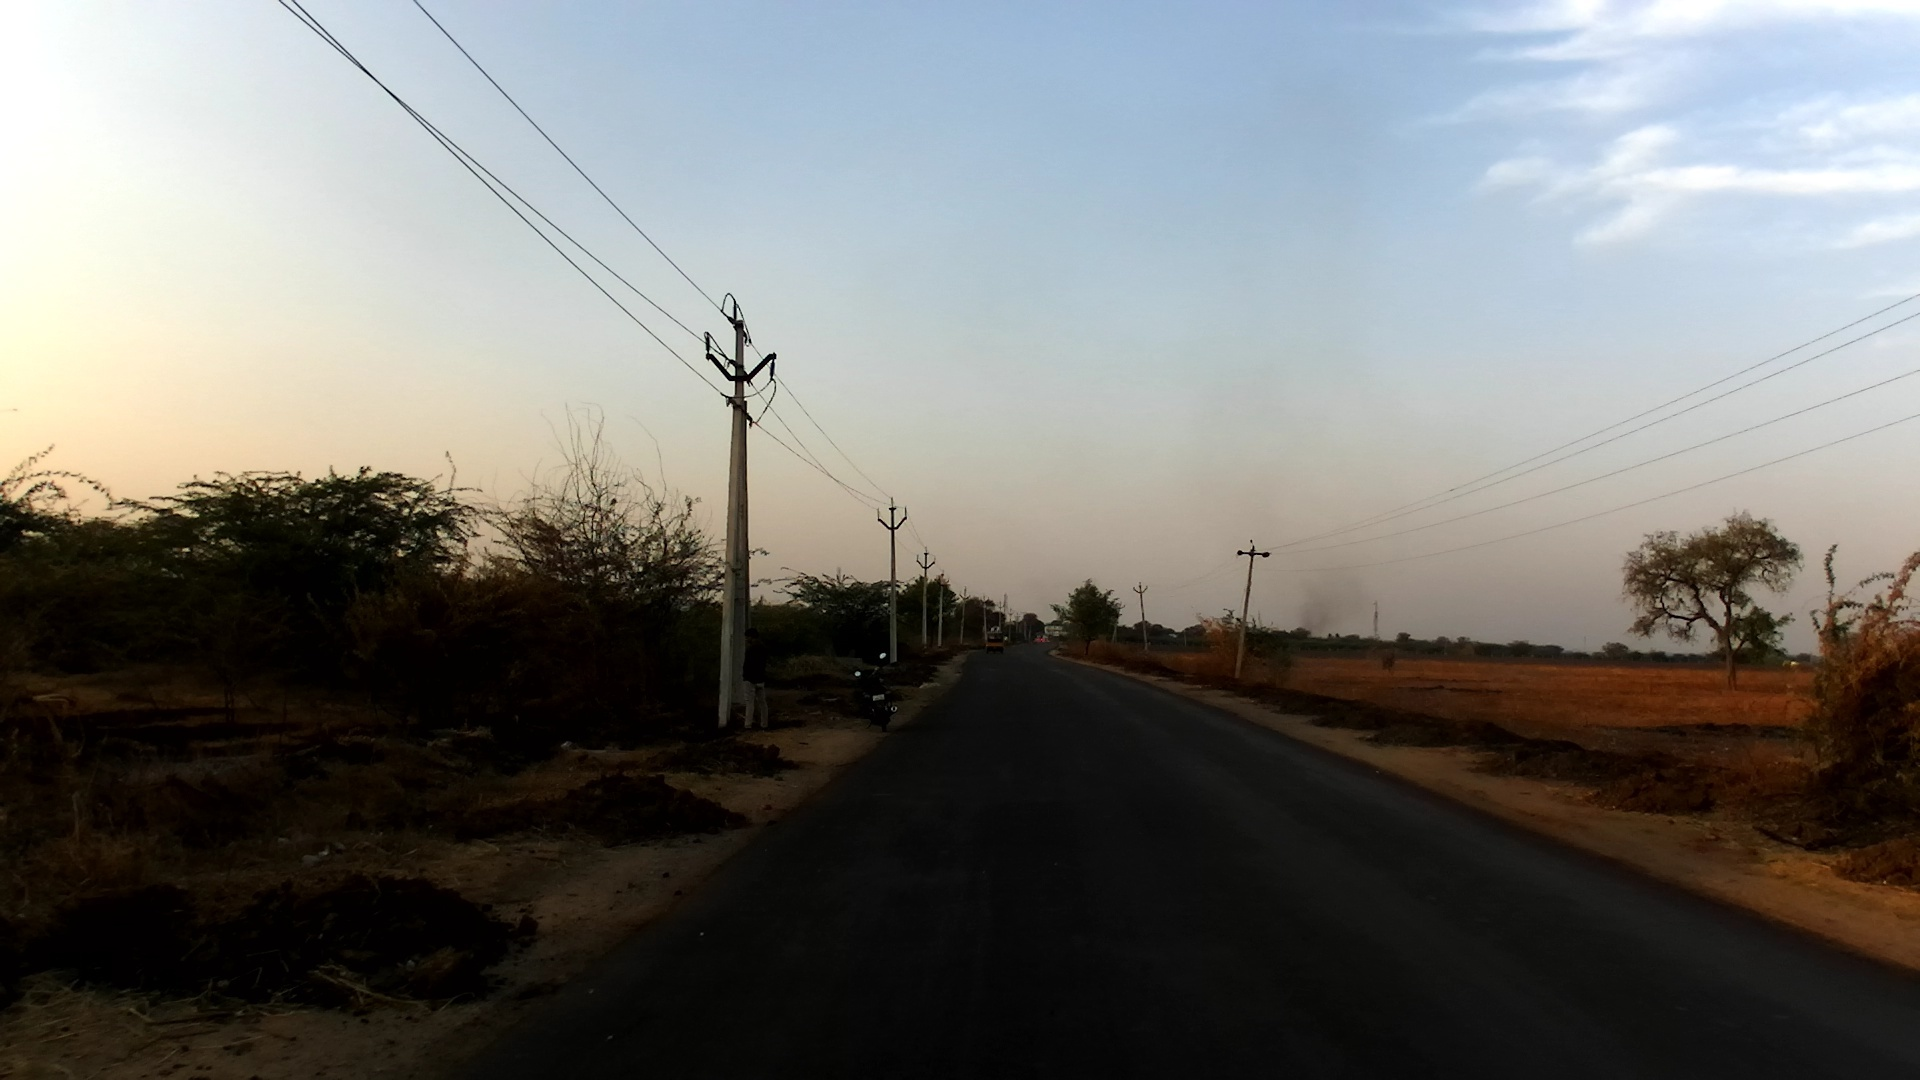car: (982, 626, 1008, 653)
motorcycle: (850, 647, 897, 736)
person: (736, 625, 771, 731)
vehicle fallback: (1033, 631, 1047, 642)
